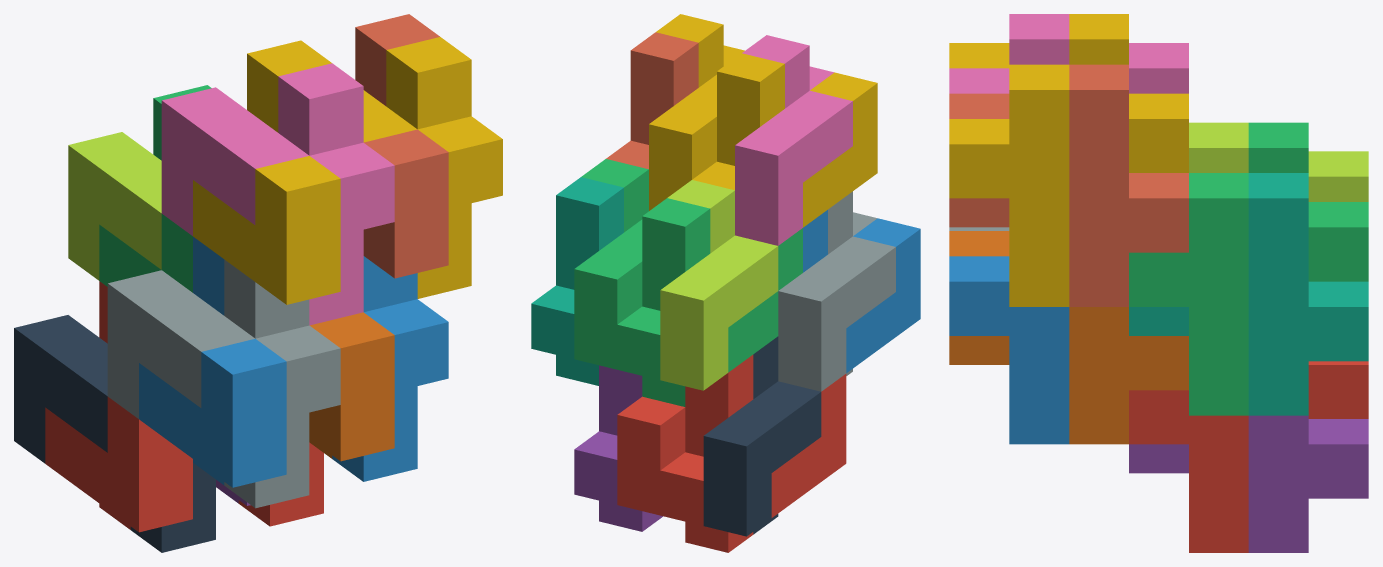
File: tiling.obj
3 views of the same model, side by side, from view 1: azimuth 30°, elevation 25°; view 2: azimuth 150°, elevation 25°; view 3: azimuth 270°, elevation 25° (orthographic). The views are drawn at different scales.
Parts seen in each view (by area): view 1: copy_2_domain_4, copy_2_domain_2, copy_1_domain_4, copy_1_domain_2, copy_2_domain_8, copy_2_domain_1, copy_1_domain_8, copy_1_domain_1, copy_2_domain_3, copy_2_domain_6, copy_1_domain_6, copy_1_domain_3 (+1 smaller); view 2: copy_2_domain_4, copy_2_domain_3, copy_2_domain_2, copy_2_domain_1, copy_1_domain_3, copy_1_domain_1, copy_1_domain_4, copy_2_domain_7, copy_1_domain_7, copy_2_domain_8, copy_1_domain_2, copy_2_domain_5 (+2 smaller); view 3: copy_2_domain_8, copy_1_domain_8, copy_2_domain_7, copy_1_domain_7, copy_2_domain_5, copy_1_domain_5, copy_1_domain_6, copy_2_domain_6, copy_2_domain_4, copy_2_domain_3, copy_1_domain_4, copy_1_domain_3.
Part boxes in pixels (<box>): copy_2_domain_4: <box>161,63,394,325</box>; copy_2_domain_2: <box>107,259,340,508</box>; copy_1_domain_4: <box>193,40,340,304</box>; copy_1_domain_2: <box>139,236,286,487</box>; copy_2_domain_8: <box>363,37,502,298</box>; copy_2_domain_1: <box>14,315,215,552</box>; copy_1_domain_8: <box>355,14,448,278</box>; copy_1_domain_1: <box>45,281,192,532</box>; copy_2_domain_3: <box>68,132,161,280</box>; copy_2_domain_6: <box>332,256,448,481</box>; copy_1_domain_6: <box>309,312,394,461</box>; copy_1_domain_3: <box>99,85,211,292</box>; copy_2_domain_4: <box>735,35,852,245</box>; copy_2_domain_3: <box>660,180,778,390</box>; copy_2_domain_2: <box>778,191,895,391</box>; copy_2_domain_1: <box>703,336,821,536</box>; copy_1_domain_3: <box>617,198,802,406</box>; copy_1_domain_1: <box>660,355,846,552</box>; copy_1_domain_4: <box>692,53,877,227</box>; copy_2_domain_7: <box>574,159,648,369</box>; copy_1_domain_7: <box>531,177,623,385</box>; copy_2_domain_8: <box>649,14,744,210</box>; copy_1_domain_2: <box>803,210,920,372</box>; copy_2_domain_5: <box>617,396,685,515</box>; copy_2_domain_8: <box>949,64,1188,306</box>; copy_1_domain_8: <box>949,64,1188,306</box>; copy_2_domain_7: <box>1129,173,1368,415</box>; copy_1_domain_7: <box>1129,173,1368,415</box>; copy_2_domain_5: <box>1129,361,1368,552</box>; copy_1_domain_5: <box>1129,415,1368,552</box>; copy_1_domain_6: <box>949,231,1188,444</box>; copy_2_domain_6: <box>949,256,1069,444</box>; copy_2_domain_4: <box>949,14,1188,93</box>; copy_2_domain_3: <box>1189,122,1368,201</box>; copy_1_domain_4: <box>949,14,1128,68</box>; copy_1_domain_3: <box>1248,122,1308,172</box>.
Bounding box in the file's own units: 5 × 9 × 7.
